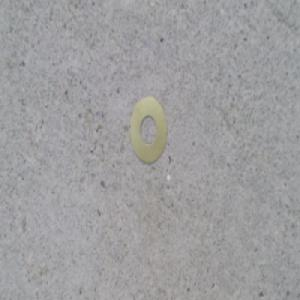Washer: (128, 98, 168, 165)
